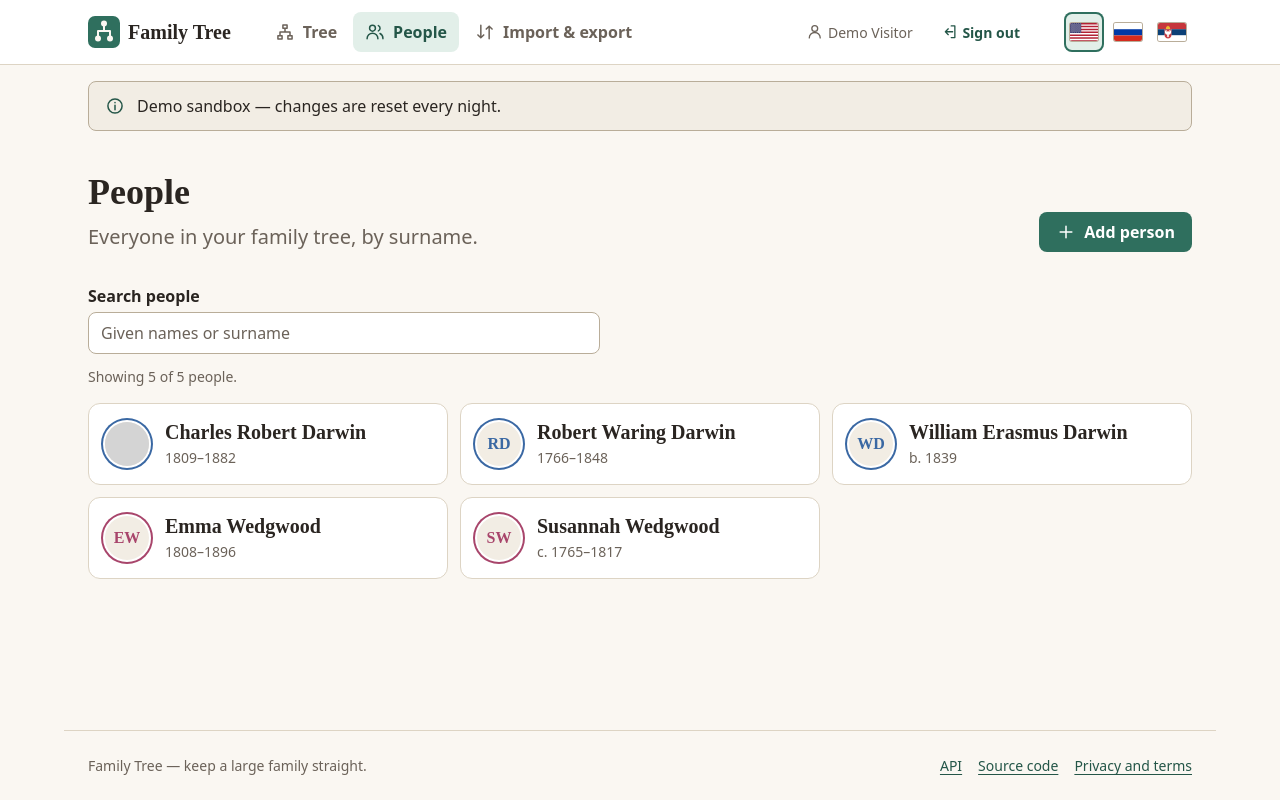
Test: one click switches the whole page to Russian on the same address and remembers it
Check: the heading "People" is shown, box [88,172,190,212]
Click the button named "Русский": (1128, 32) [1108,12,1148,52]
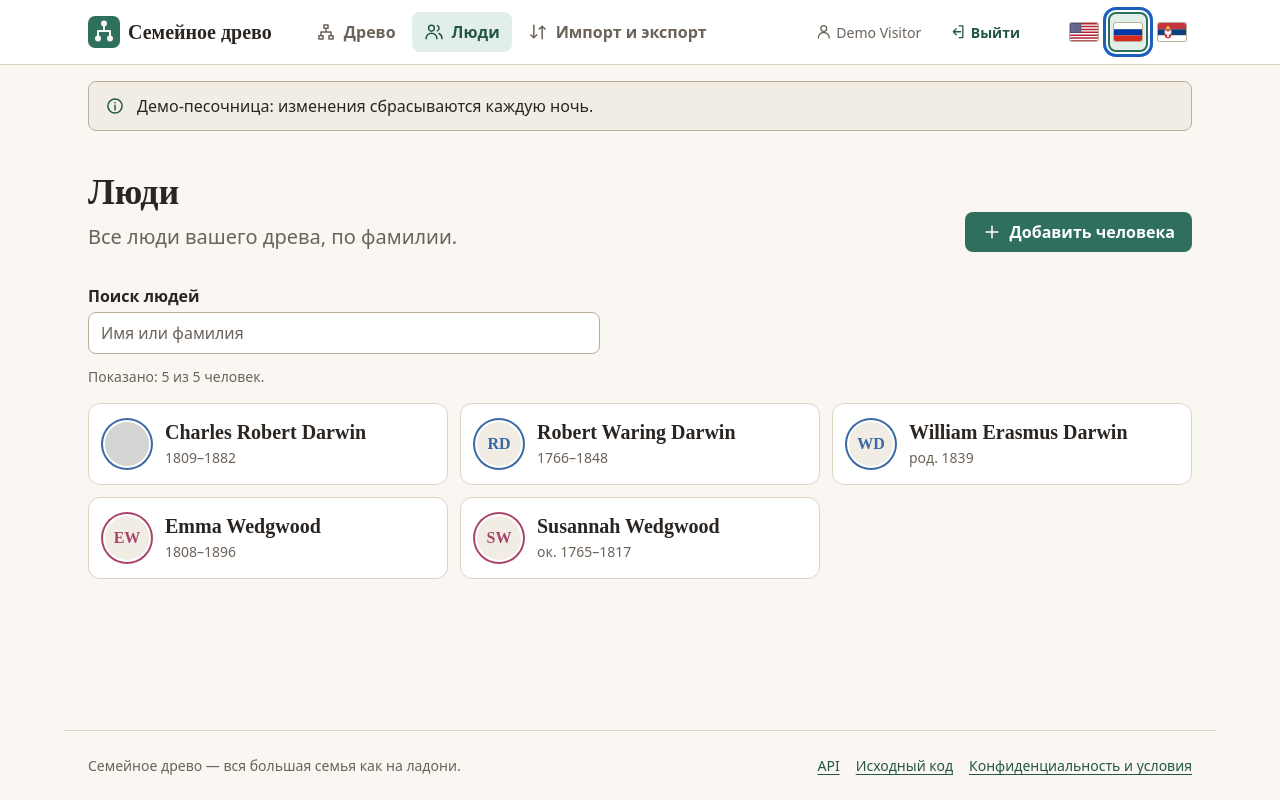
Check: the heading "Люди" is shown, box [88,172,179,212]
Check: the link "Импорт и экспорт" is shown, box [528,21,706,43]
